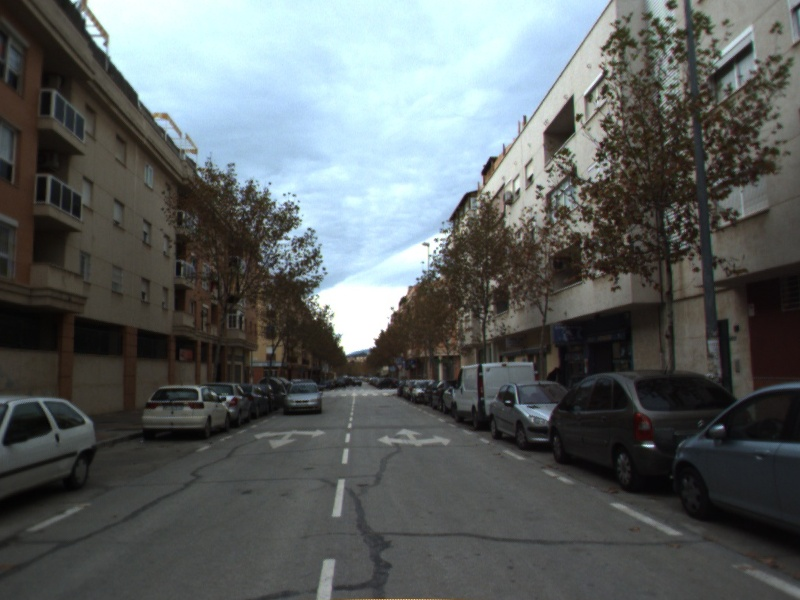STRAIGHT_LEFT_RIGHT: (375, 427, 453, 449)
